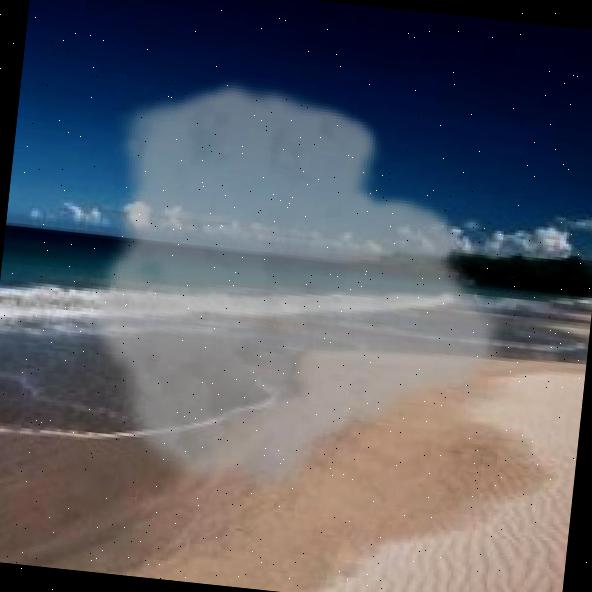smoke: (69, 65, 537, 527)
